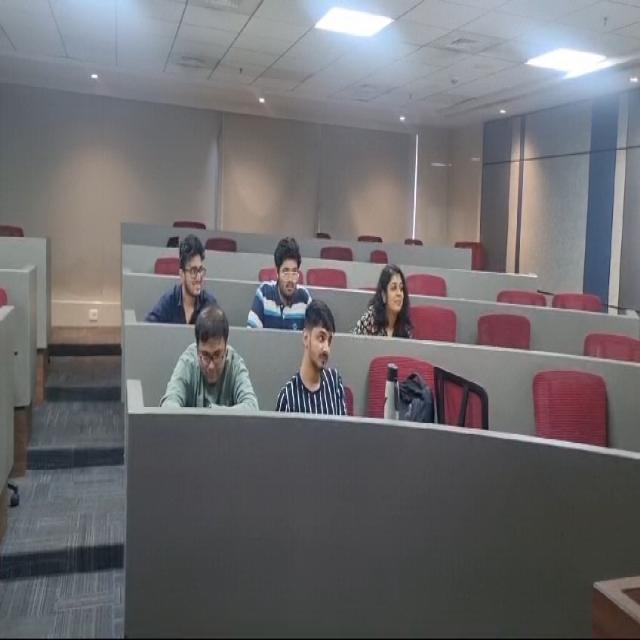cheating: (161, 229, 213, 318), (266, 237, 318, 324), (298, 306, 339, 413), (374, 264, 415, 337)
non-cheating: (172, 305, 248, 416)
